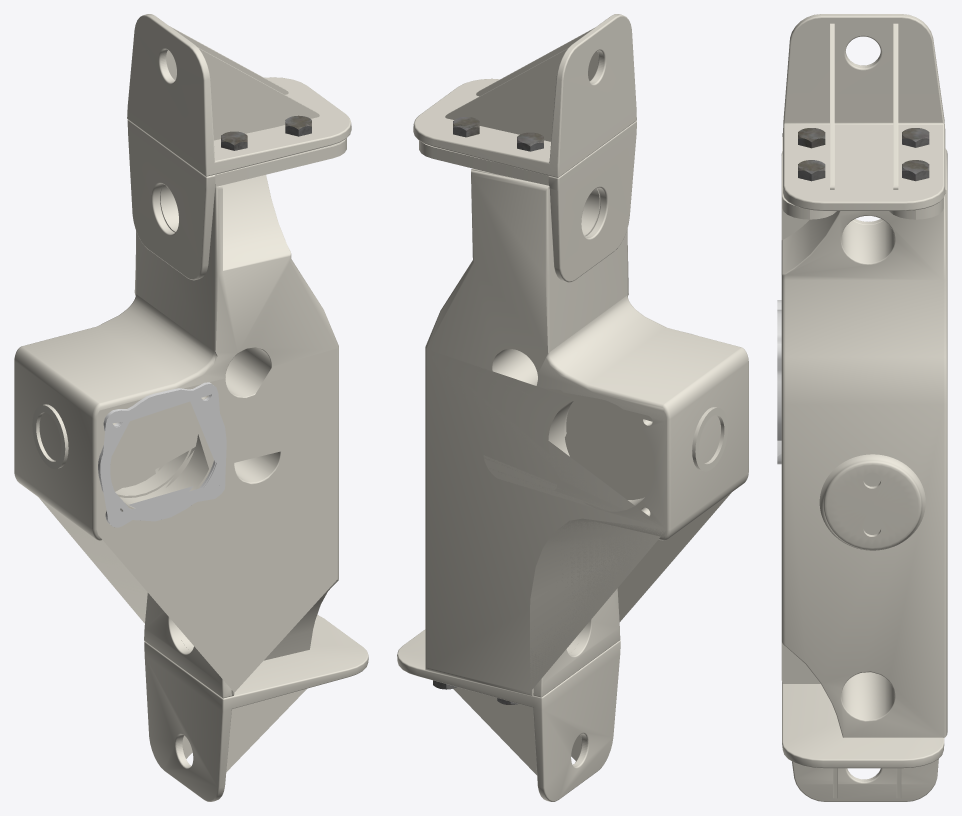
The model's file is PiezaTren.fbx.
3 views of the same model, side by side, from view 1: azimuth 30°, elevation 25°; view 2: azimuth 150°, elevation 25°; view 3: azimuth 270°, elevation 25° (orthographic). The views are drawn at different scales.
Visible parts, largest first — view 1: Cube.010; view 2: Cube.010; view 3: Cube.010.
Part boxes in pixels (<box>): Cube.010: <box>14,14,368,801</box>; Cube.010: <box>397,14,748,801</box>; Cube.010: <box>777,14,947,801</box>.
Size of the model in its own units: 192 by 476 by 94.51.
3 materials, 1 textured.
